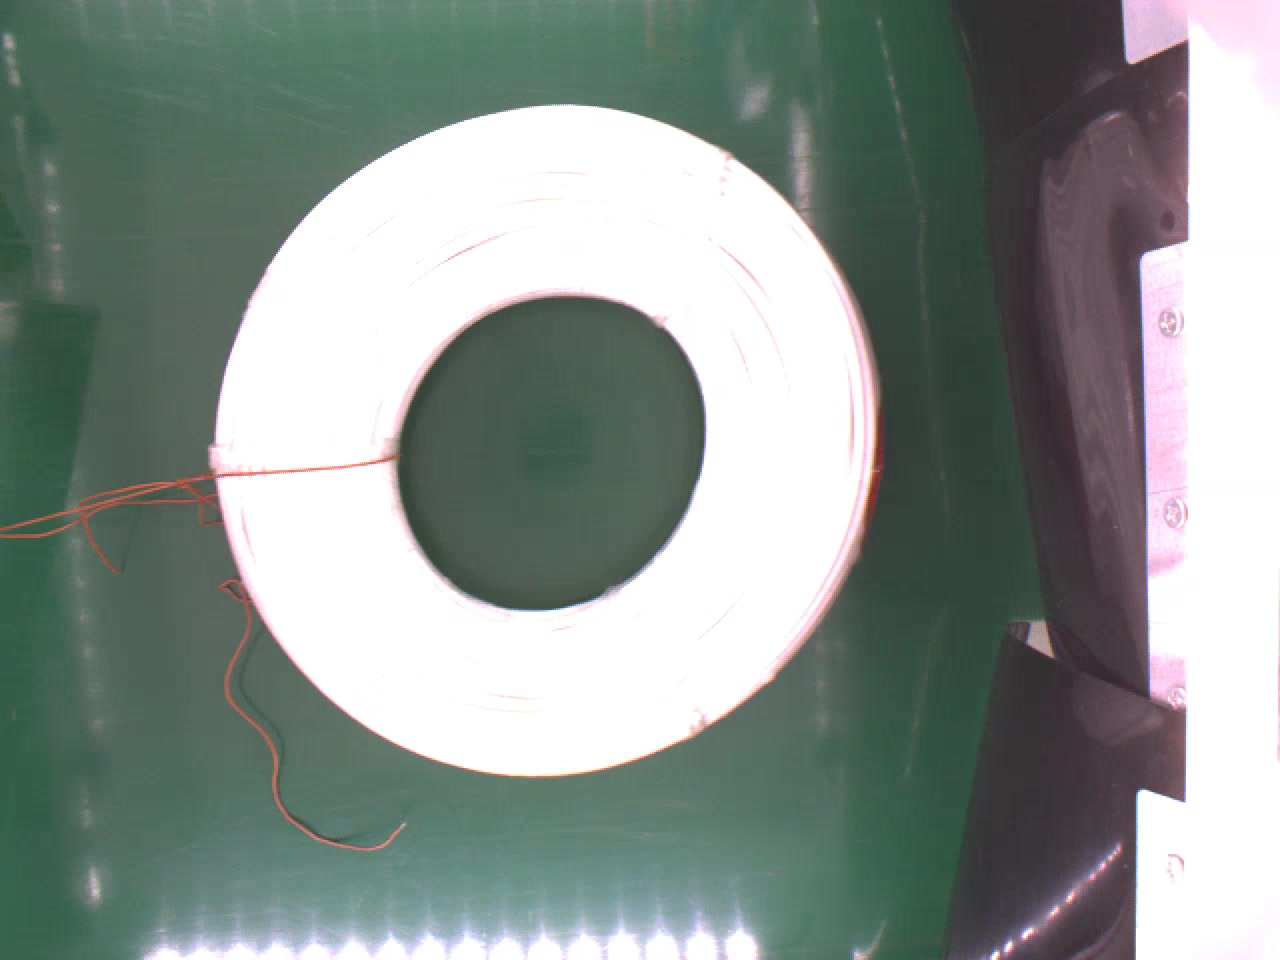white: (211, 97, 887, 781)
